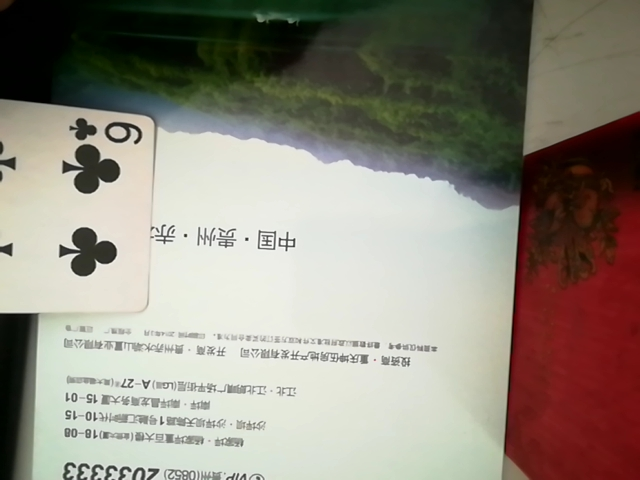mh 6: (2, 90, 153, 320)
